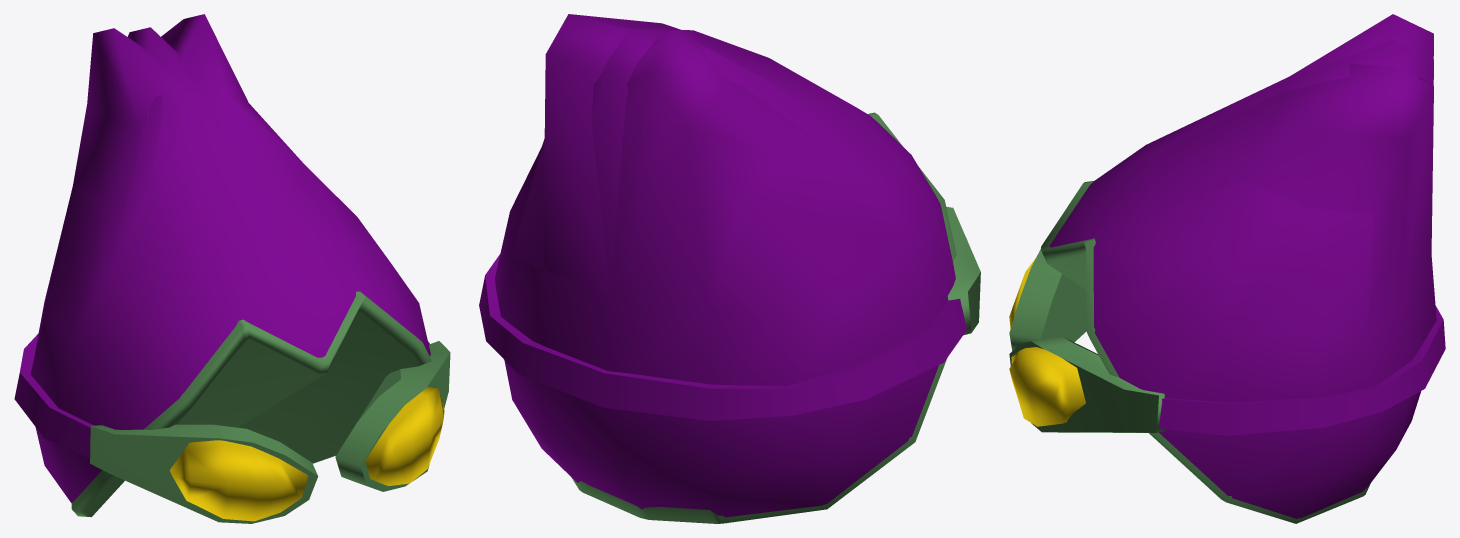
Rendered from hat_goblin with glasses.fbx.
3 views of the same model, side by side, from view 1: azimuth 30°, elevation 25°; view 2: azimuth 150°, elevation 25°; view 3: azimuth 270°, elevation 25° (orthographic). The views are drawn at different scales.
Parts seen in each view (by area): view 1: Enemy_hat_Goblin, Enemy_hat_Goblin1, Enemy_hat_Goblin2; view 2: Enemy_hat_Goblin, Enemy_hat_Goblin1, Enemy_hat_Goblin2; view 3: Enemy_hat_Goblin, Enemy_hat_Goblin1, Enemy_hat_Goblin2.
Part boxes in pixels (bbox=[...]): Enemy_hat_Goblin: bbox=[14, 28, 450, 523]; Enemy_hat_Goblin1: bbox=[107, 14, 345, 303]; Enemy_hat_Goblin2: bbox=[128, 27, 273, 228]; Enemy_hat_Goblin: bbox=[479, 30, 980, 523]; Enemy_hat_Goblin1: bbox=[511, 14, 869, 292]; Enemy_hat_Goblin2: bbox=[591, 29, 796, 291]; Enemy_hat_Goblin: bbox=[1009, 14, 1445, 523]; Enemy_hat_Goblin1: bbox=[1083, 64, 1433, 334]; Enemy_hat_Goblin2: bbox=[1058, 40, 1433, 432].
Size of the model in its own units: 46.87 by 52.67 by 47.16.
